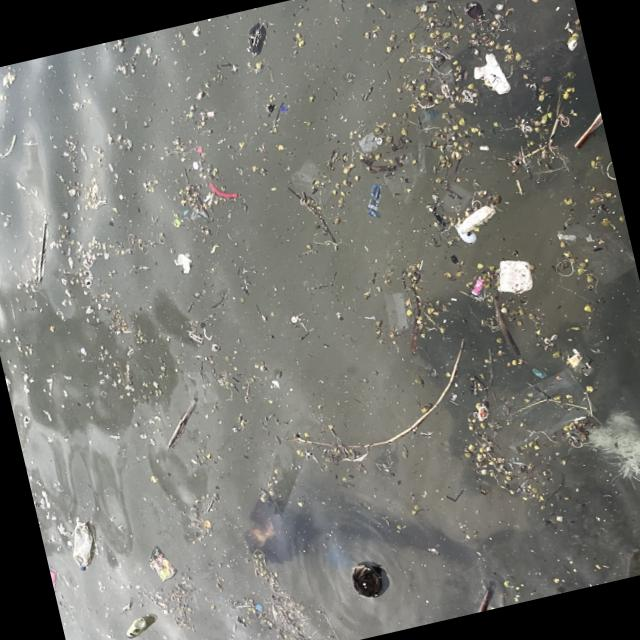foam: (470, 49, 513, 99), (457, 202, 500, 233), (363, 185, 388, 220)
plastic bottle: (67, 519, 99, 571), (124, 617, 149, 639)
